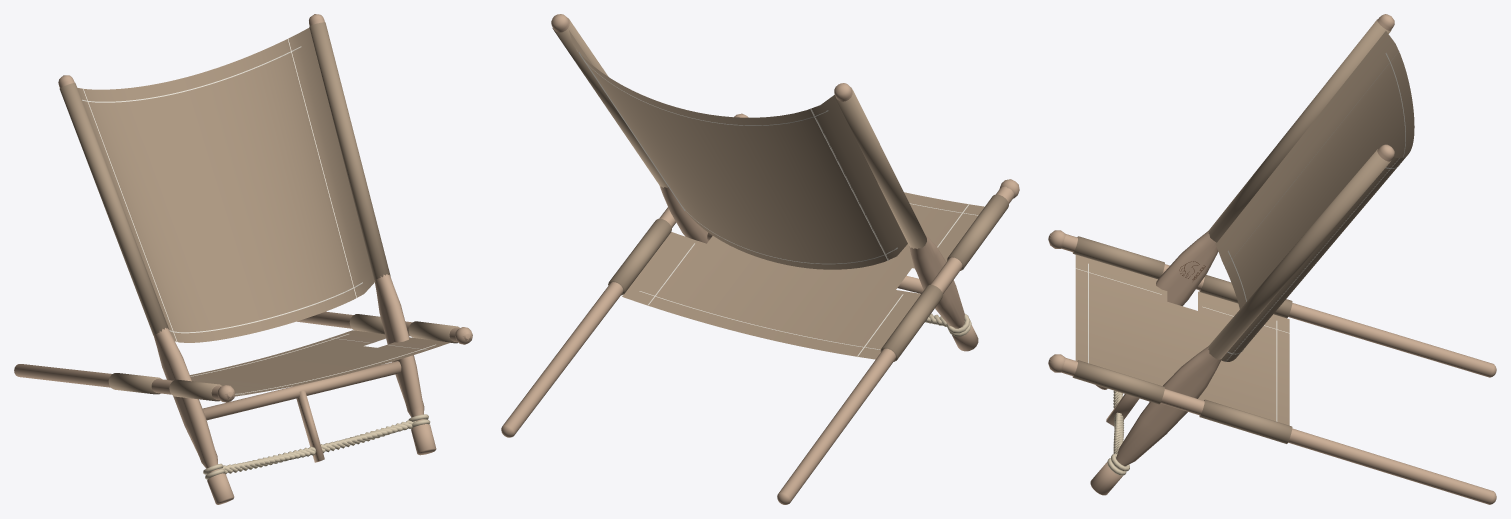
The model's file is nordisk-moesgaard-wooden-chair.glb.
3 renders of one model, left to right at view 1: azimuth 30°, elevation 25°; view 2: azimuth 150°, elevation 25°; view 3: azimuth 270°, elevation 25°, orthographic. The views are drawn at different scales.
Bounding box in the file's own units: 0.6711 × 0.8198 × 0.9225.
